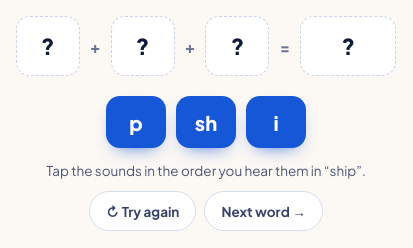
Test: BlendGame › asks to retry and marks the result wrong when the order is wrong
Click the button "p" at (136,122), box [106, 96, 166, 148]
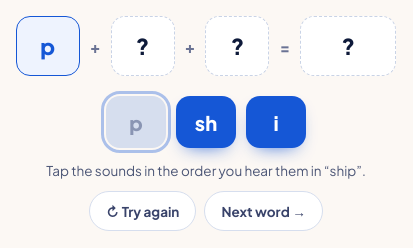
Click the button "i" at (276,122), box [246, 96, 306, 148]
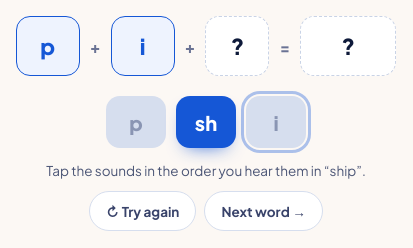
Click the button "sh" at (206,122), box [176, 96, 236, 148]
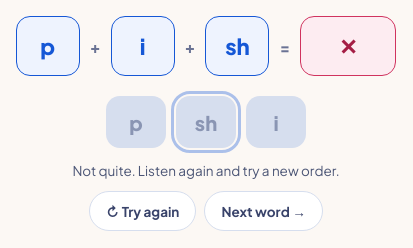
Now the text "Not quite. Listen again and try a new order." is shown, box [72, 162, 340, 179]
